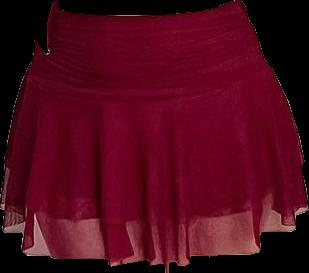Hemline: (0, 205, 308, 266)
Waistline: (53, 0, 241, 18)
